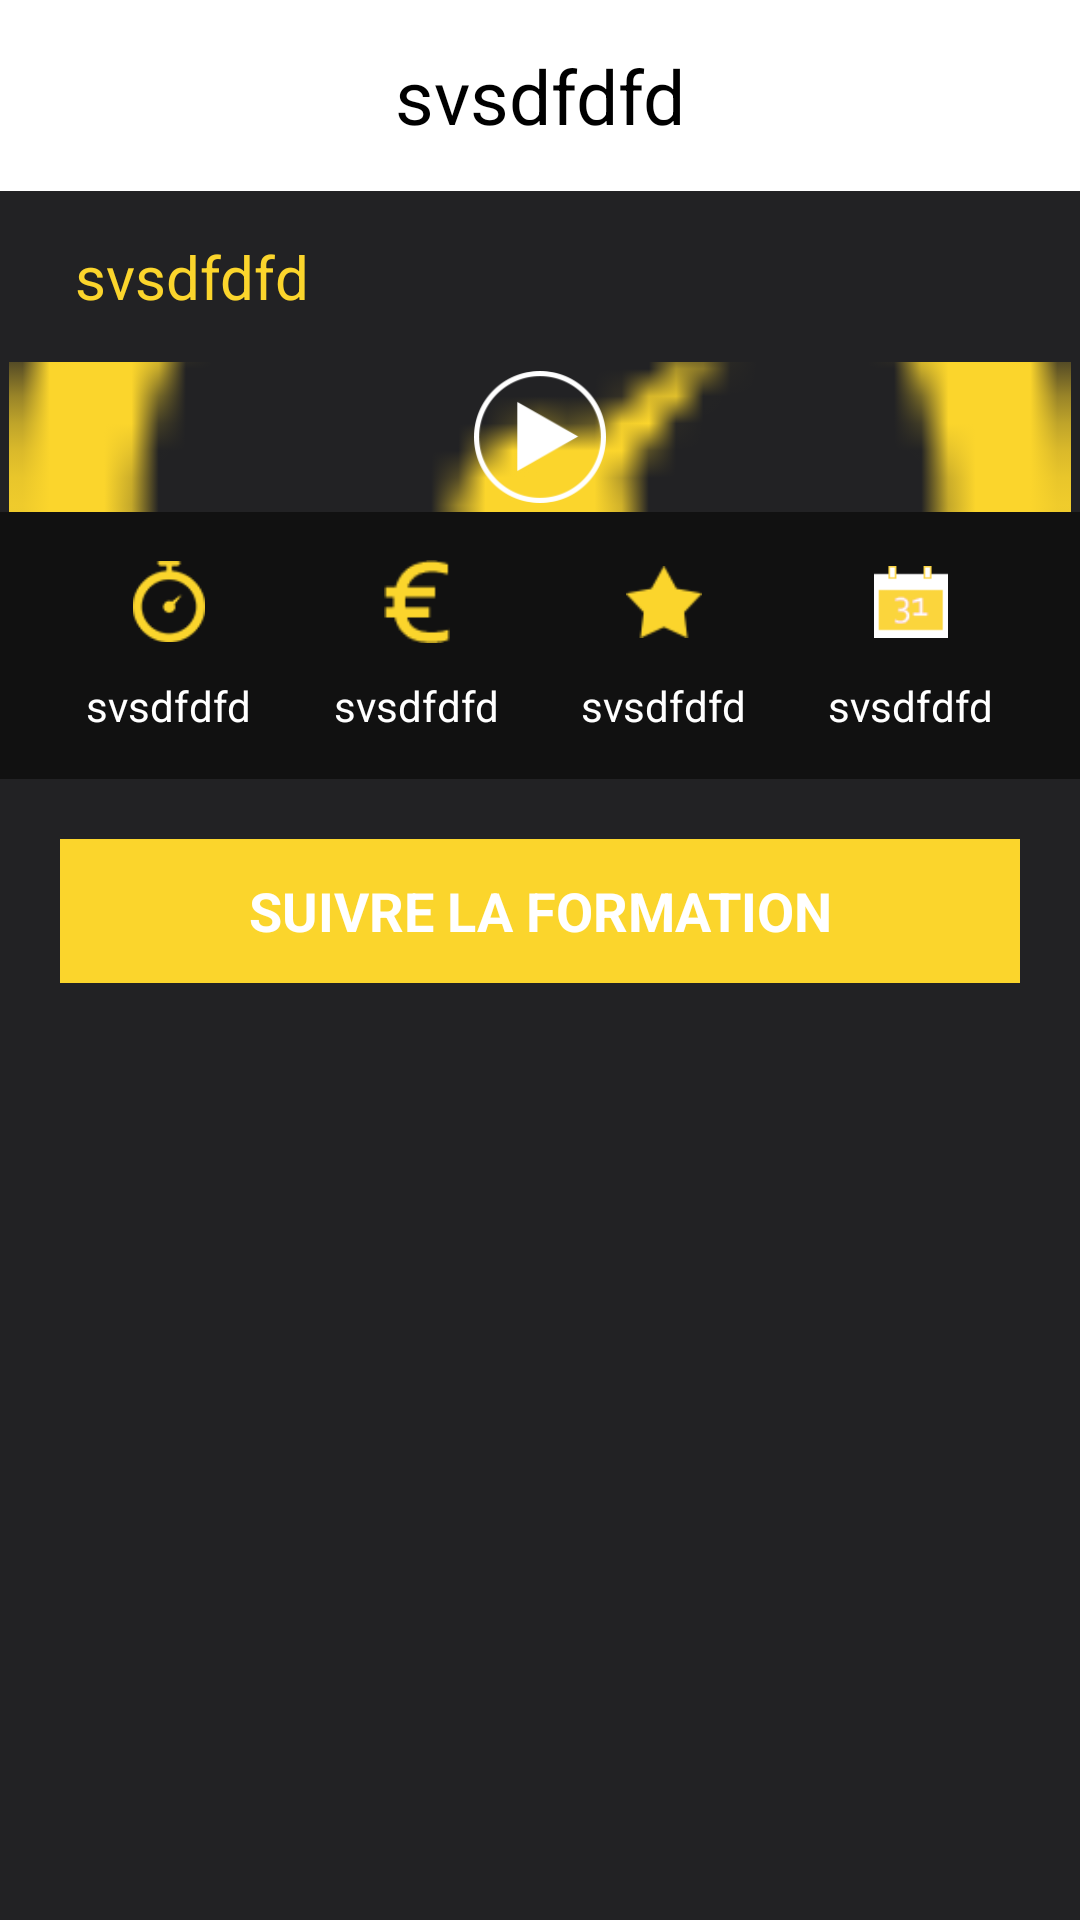

Named icons in this screenshot (1080 x 1920) and their centers, [x,y]:
date: [911,602]
note: [664,602]
prix: [417,601]
